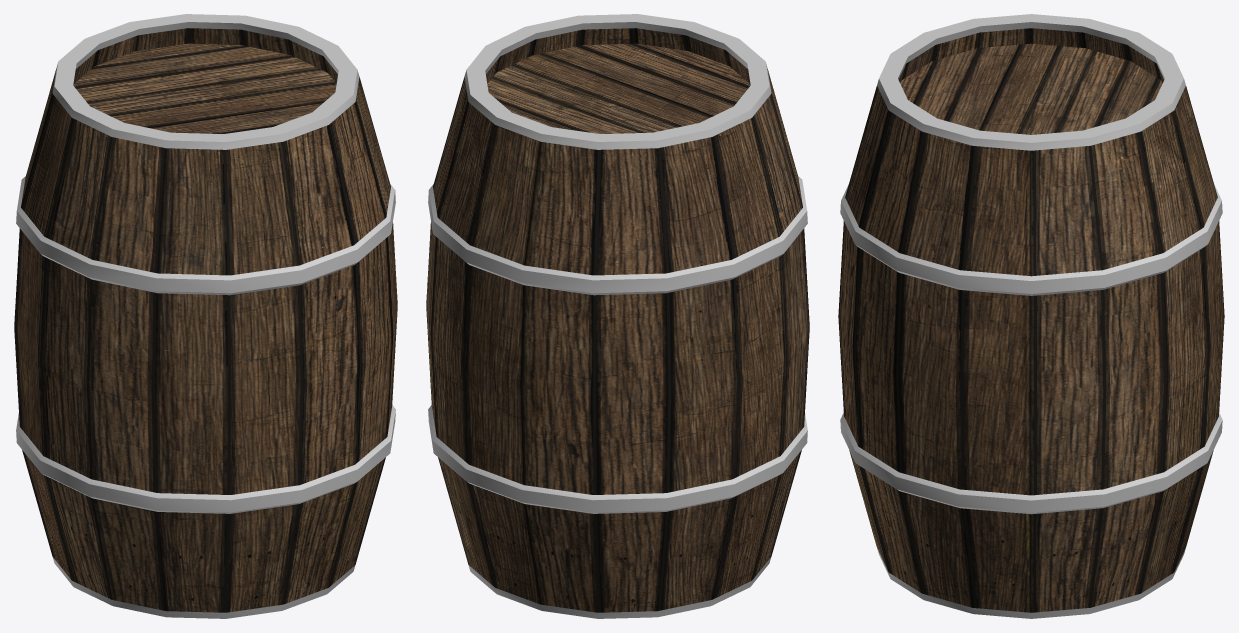
The model's file is Barrel.fbx.
3 views of the same model, side by side, from view 1: azimuth 30°, elevation 25°; view 2: azimuth 150°, elevation 25°; view 3: azimuth 270°, elevation 25° (orthographic).
Visible parts, largest first — view 1: Mesh; view 2: Mesh; view 3: Mesh.
Part boxes in pixels (x1,y1,x2,y2): Mesh: (14,14,397,618); Mesh: (426,14,809,618); Mesh: (838,14,1224,618).
Bounding box in the file's own units: 200 × 272 × 200.
